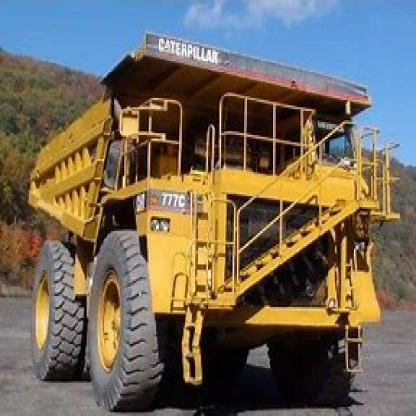dump_truck: (18, 26, 382, 407)
